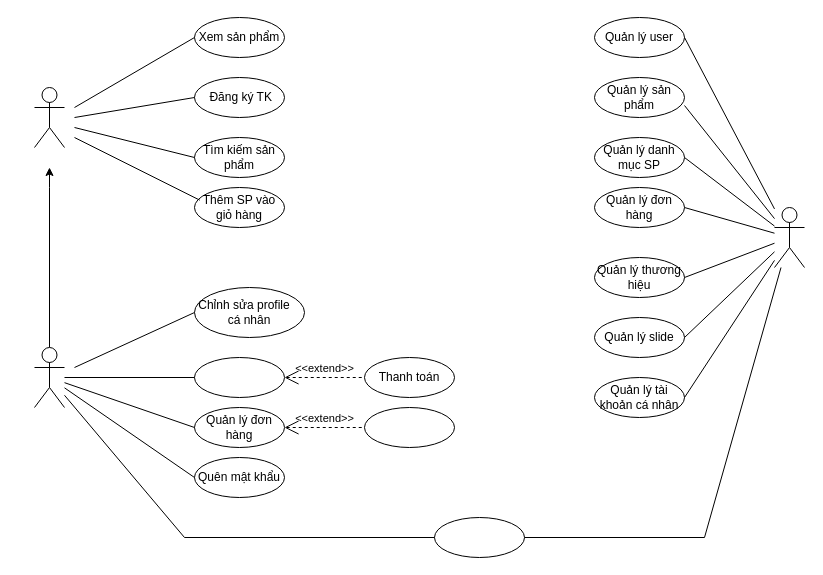
This 823x575 diagram has some shape labels left out. Each missing label, with the centre of its shape:
"Admin" goes at (x=789, y=237).
"Guest" goes at (x=49, y=117).
"Hủy đơn" goes at (x=409, y=427).
"Khách hàng" goes at (x=49, y=377).
"Mua hàng" goes at (x=239, y=377).
"Đăng nhập/ Đăng xuất" goes at (x=479, y=537).
